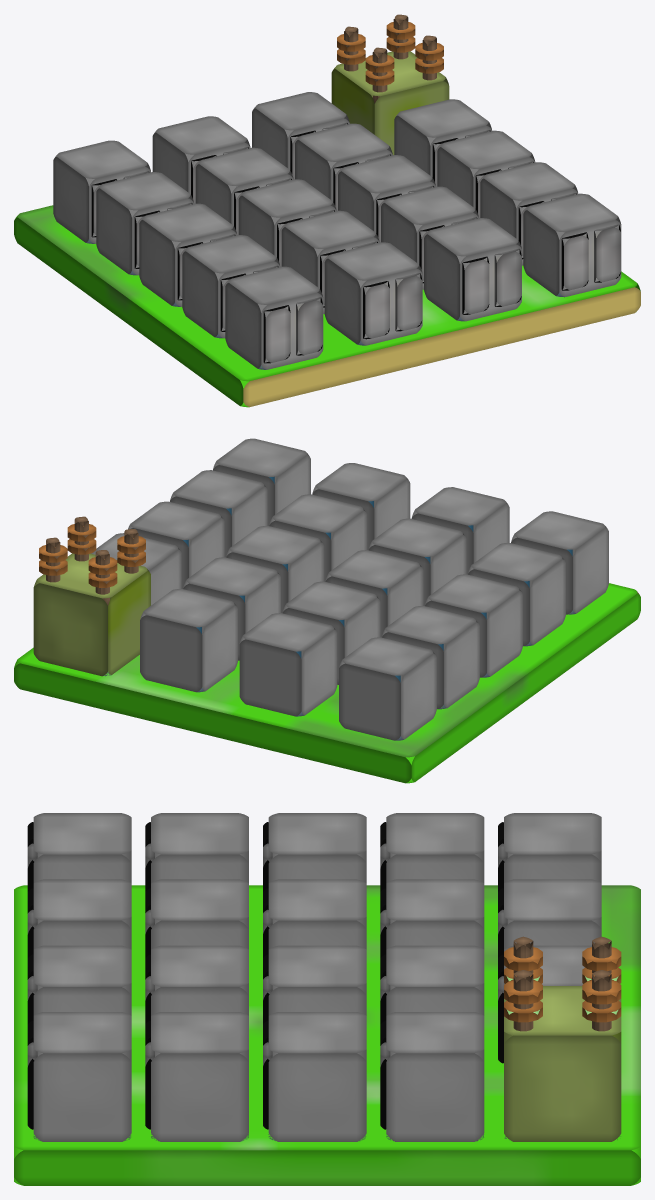
File: Grid battery.fbx
3 views of the same model, one above another, from view 1: azimuth 30°, elevation 25°; view 2: azimuth 150°, elevation 25°; view 3: azimuth 270°, elevation 25° (orthographic). The views are drawn at different scales.
Parts seen in each view (by area): view 1: mesh, cube, cube_48, cube_36, cube_24, mesh_1, cube_54, cube_18, cube_45, cube_51, cube_27, cube_39 (+17 smaller); view 2: mesh, mesh_1, cube_15, cube_18, cube_12, cube_45, cube_51, cube_54, cube_48, cube_33, cube, cube_39 (+9 smaller); view 3: mesh, mesh_1, cube_9, cube, cube_6, cube_3, cube_33, cube_36, cube_45, cube_21, cube_24, cube_42 (+21 smaller).
Part boxes in pixels (x1,y1,x2,y2): mesh: [14, 205, 640, 407]; cube: [523, 193, 621, 297]; cube_48: [225, 266, 323, 369]; cube_36: [324, 242, 422, 345]; cube_24: [424, 218, 521, 321]; mesh_1: [331, 51, 449, 154]; cube_54: [139, 203, 236, 306]; cube_18: [53, 140, 150, 243]; cube_45: [96, 172, 193, 275]; cube_51: [182, 235, 280, 338]; cube_27: [381, 186, 478, 289]; cube_39: [281, 210, 379, 313]; mesh: [14, 583, 640, 783]; mesh_1: [33, 553, 150, 676]; cube_15: [239, 613, 337, 716]; cube_18: [339, 637, 436, 740]; cube_12: [140, 589, 237, 692]; cube_45: [382, 606, 479, 709]; cube_51: [468, 543, 565, 646]; cube_54: [425, 574, 522, 677]; cube_48: [511, 511, 608, 614]; cube_33: [282, 581, 380, 684]; cube: [213, 438, 310, 525]; cube_39: [368, 518, 466, 605]; mesh: [14, 885, 640, 1185]; mesh_1: [504, 986, 621, 1141]; cube_9: [386, 1012, 484, 1141]; cube: [33, 1012, 131, 1141]; cube_6: [268, 1012, 366, 1141]; cube_3: [151, 1012, 248, 1141]; cube_33: [386, 879, 484, 949]; cube_36: [33, 879, 131, 949]; cube_45: [386, 813, 484, 882]; cube_21: [386, 945, 484, 1015]; cube_24: [33, 945, 131, 1015]; cube_42: [268, 879, 366, 949].
Bounding box in the file's own units: 500 × 172 × 500.
1 material, 1 textured.
